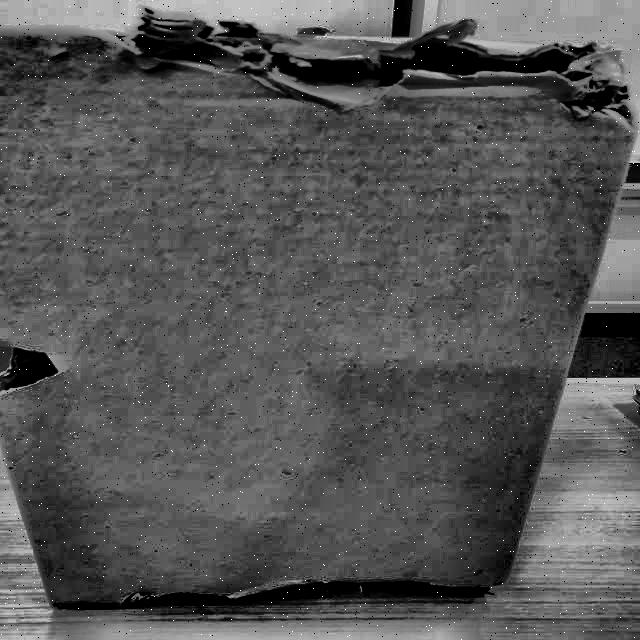box: (1, 13, 640, 621)
hole: (133, 26, 608, 94), (109, 574, 483, 614), (4, 333, 75, 397)
